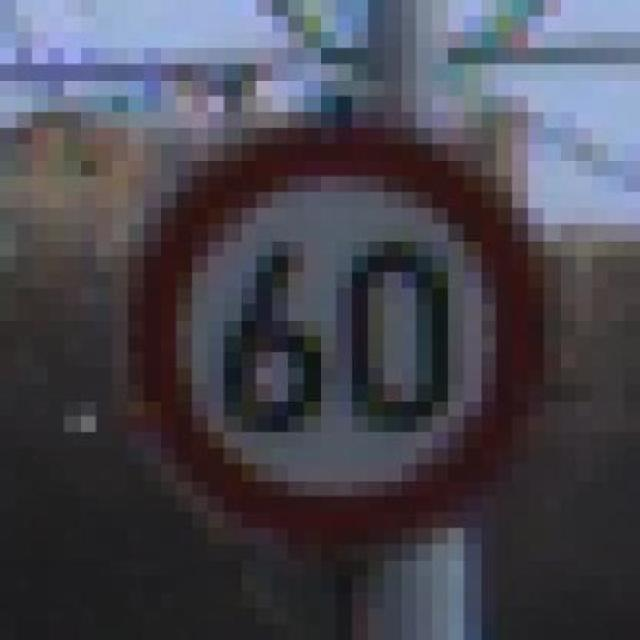forb_speed_over_60: (147, 146, 522, 525)
